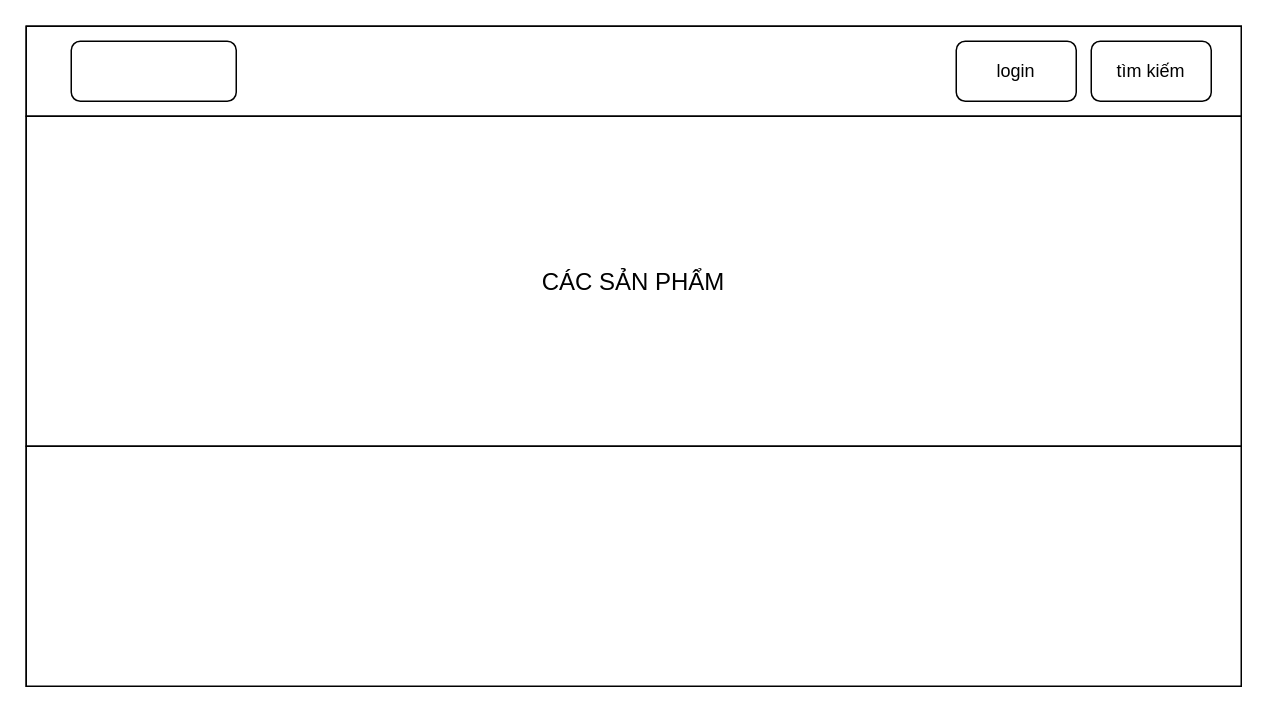
The diagram is 1268 pixels wide and 713 high, and some of its shapes have lost their labels. Here are the shapes that lost their labels. From the top down, the box of each, then its label:
(70, 40, 236, 101): logo
(25, 445, 1241, 686): CÁC THÔNG TIN KIẾN THỨC VỀ NÓN BẢO HIỂM
